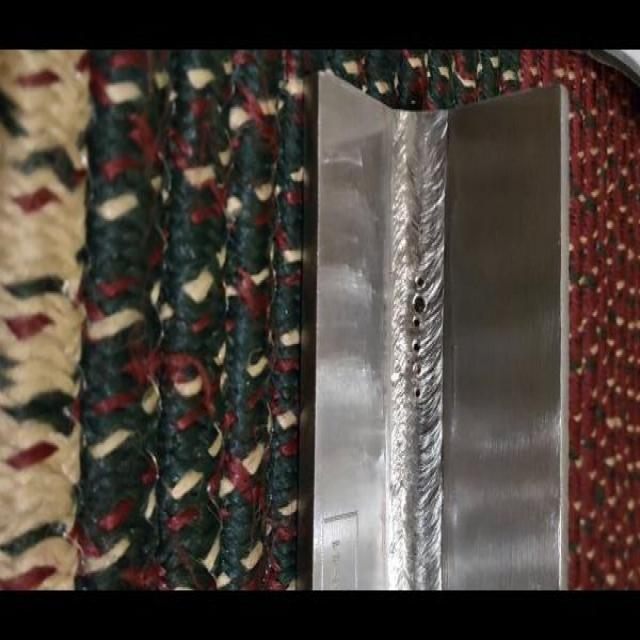Welding Line: (396, 115, 437, 591)
Workpiece: (308, 78, 560, 592)
porosity: (410, 274, 426, 398)
